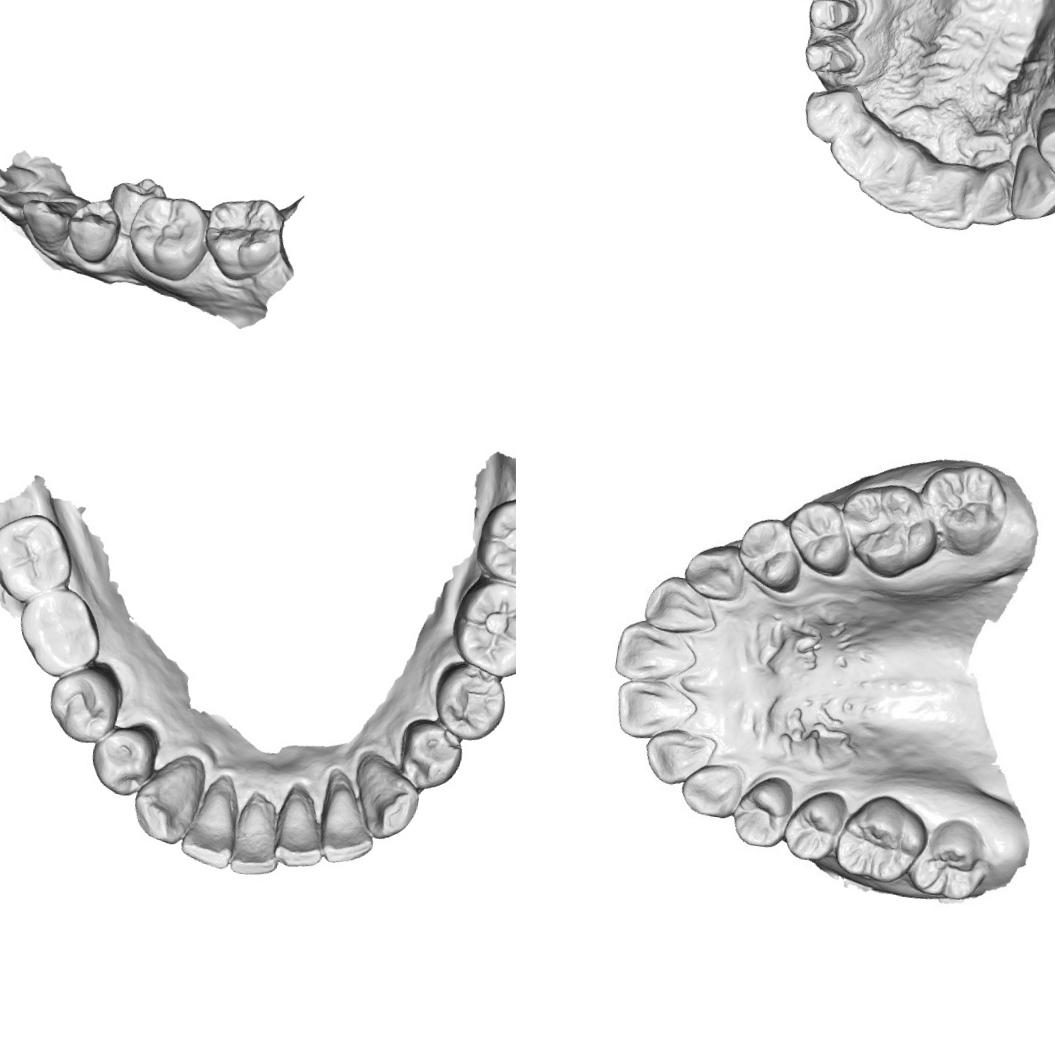canine: (125, 752, 204, 848), (346, 754, 426, 846), (677, 760, 746, 822), (14, 194, 78, 256), (798, 84, 860, 148), (687, 544, 749, 602), (1006, 155, 1055, 226)
crown: (800, 36, 861, 80), (806, 0, 861, 36)
incisor: (179, 775, 243, 870), (317, 778, 380, 868), (906, 160, 978, 235), (226, 792, 287, 880), (270, 784, 330, 872), (612, 676, 700, 736), (615, 626, 698, 689), (640, 728, 713, 791), (648, 582, 718, 642), (856, 154, 920, 218), (824, 125, 885, 189), (966, 170, 1020, 232), (0, 182, 51, 232)
molar: (834, 479, 934, 574), (13, 584, 106, 683), (122, 190, 216, 285), (198, 190, 287, 288), (0, 509, 80, 604), (452, 575, 516, 681), (927, 465, 1009, 547), (474, 489, 516, 590)
premolar: (832, 795, 927, 895), (904, 815, 986, 900), (430, 659, 510, 744), (392, 713, 470, 799), (44, 664, 121, 746), (777, 785, 845, 863), (87, 724, 156, 800), (103, 171, 171, 242), (62, 195, 126, 268), (736, 521, 802, 590), (733, 775, 796, 846), (792, 501, 851, 570), (1029, 112, 1055, 194)
